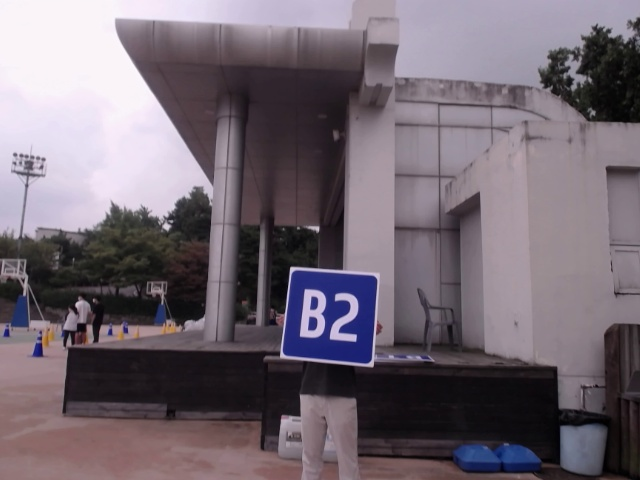delivery_b2: (284, 269, 378, 366)
